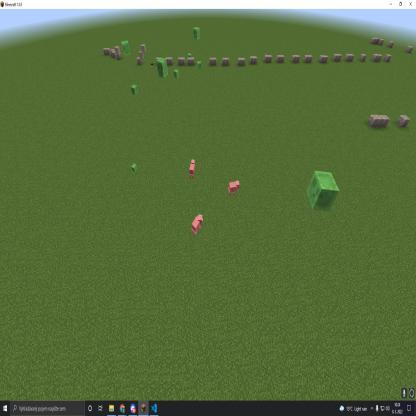pig: (226, 176, 243, 200), (189, 211, 204, 238), (187, 155, 197, 182)
